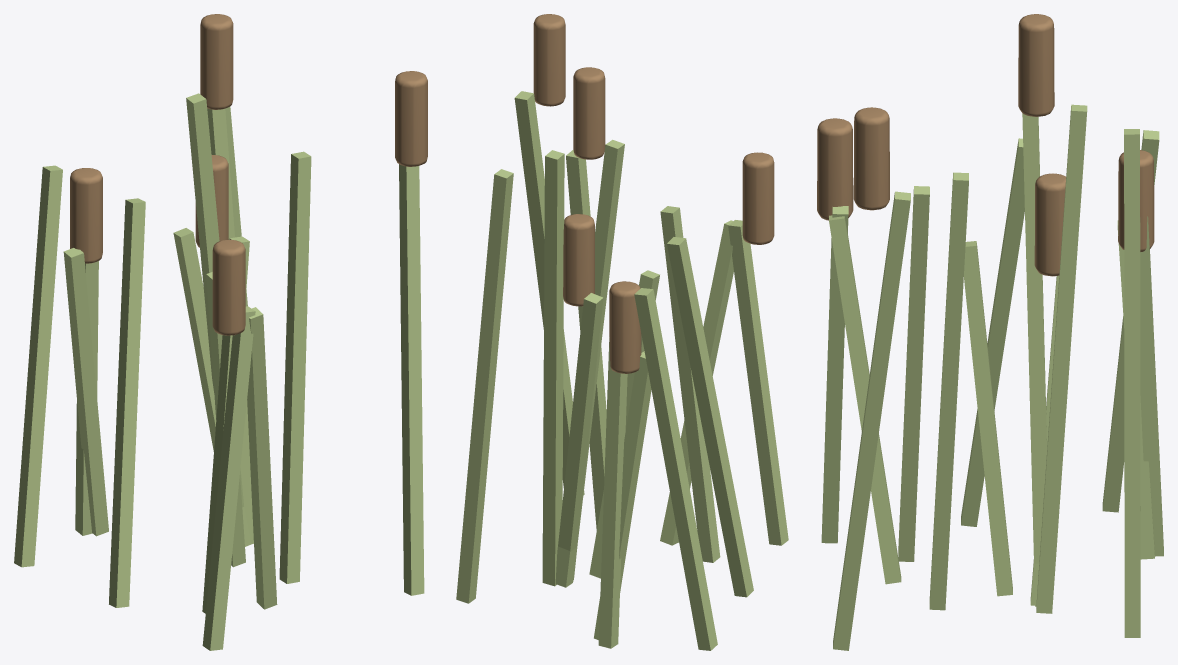
Rendered from reeds.fbx.
The picture shows the model from 3 angles, left to right: view 1: azimuth 30°, elevation 25°; view 2: azimuth 150°, elevation 25°; view 3: azimuth 270°, elevation 25°; orthographic projection. The views are drawn at different scales.
Parts seen in each view (by area): view 1: Visual; view 2: Visual; view 3: Visual.
Part boxes in pixels (box(x1,y1,x2,y2)): Visual: box(14, 14, 427, 650); Visual: box(456, 14, 788, 650); Visual: box(817, 14, 1163, 650).
Bounding box in the file's own units: 116 × 198 × 109.
